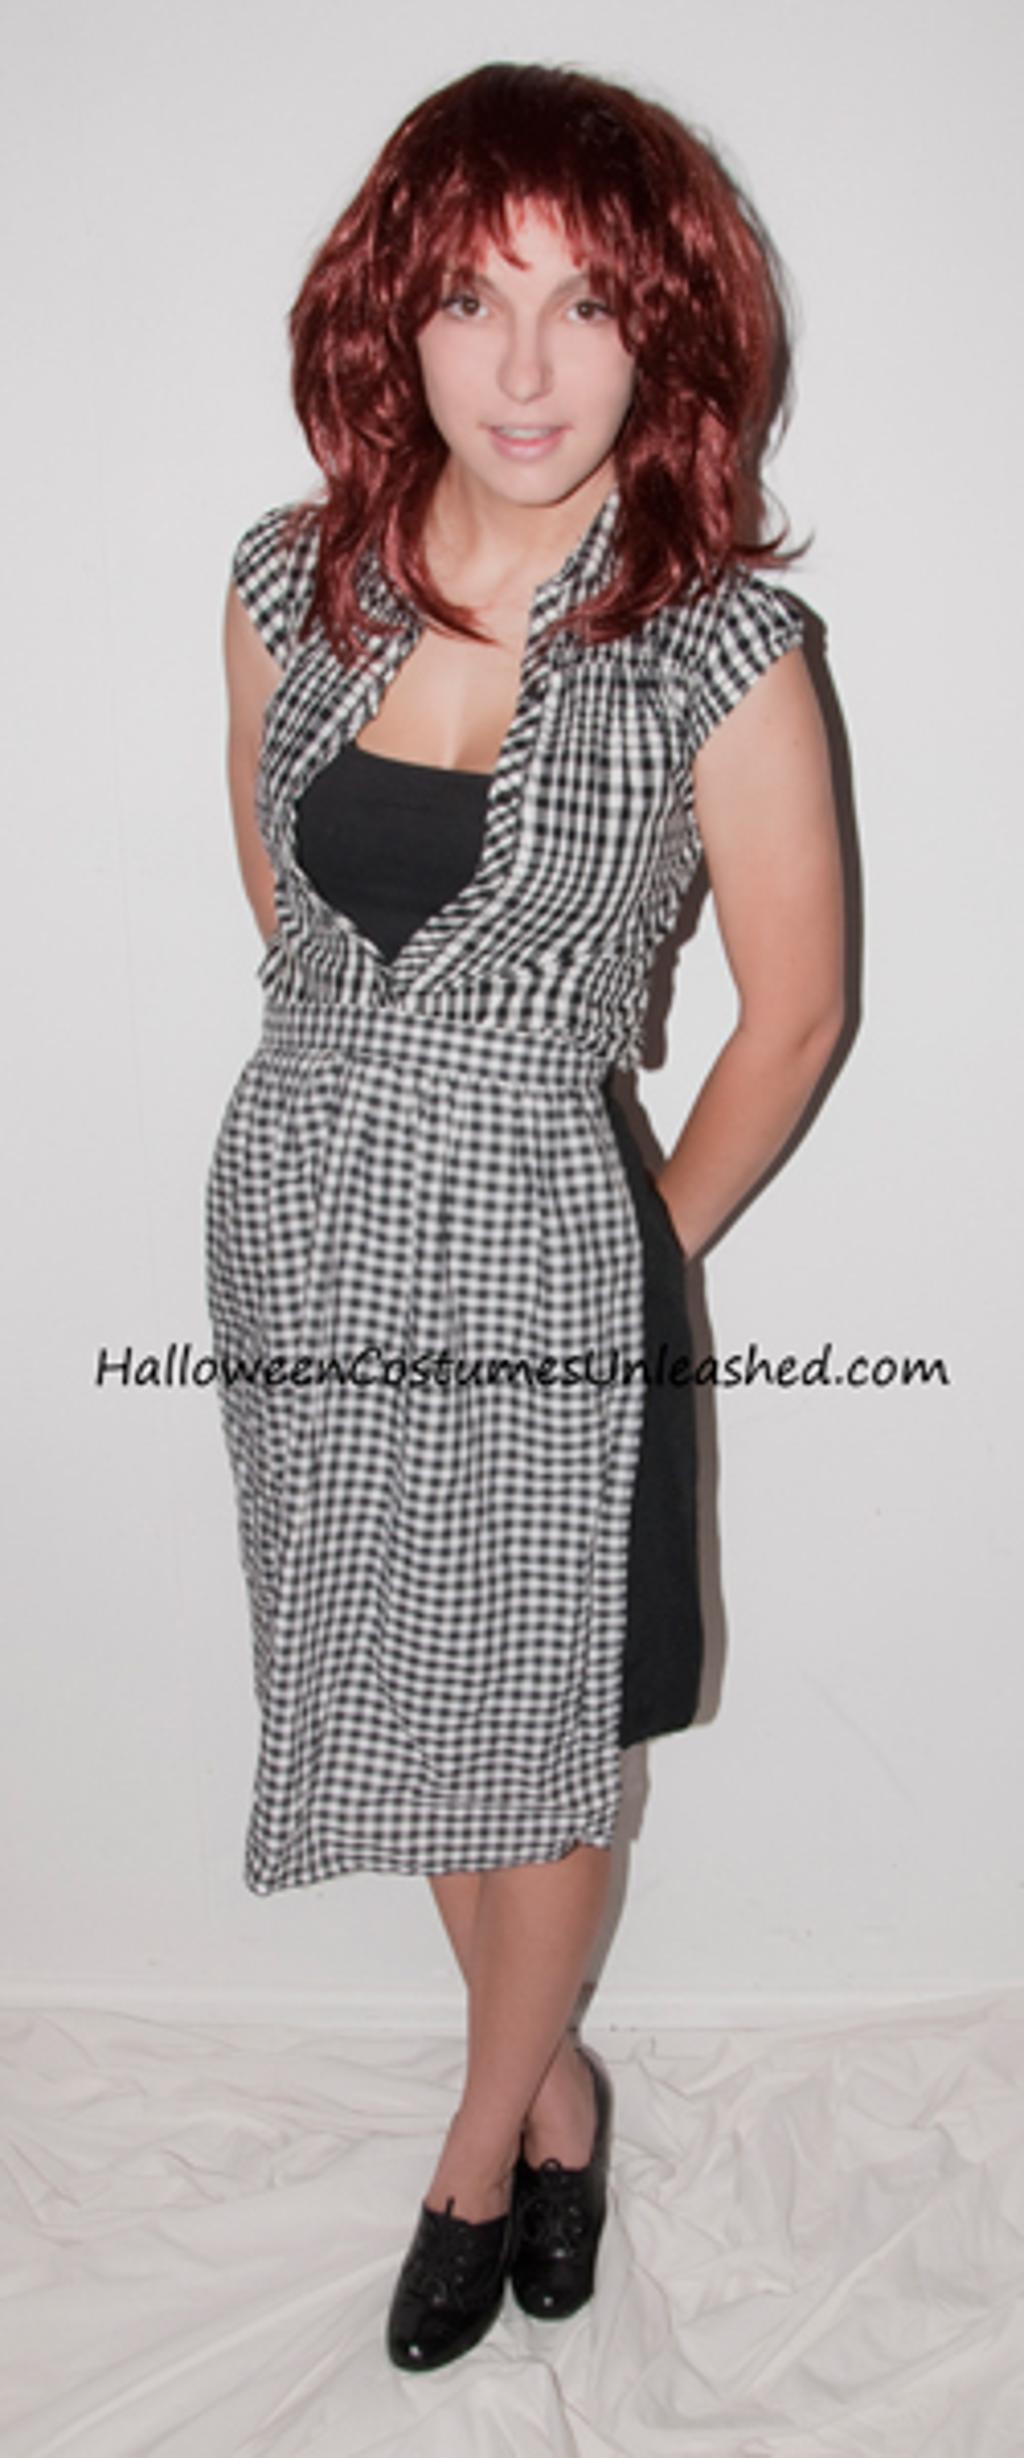face: (413, 197, 653, 500)
